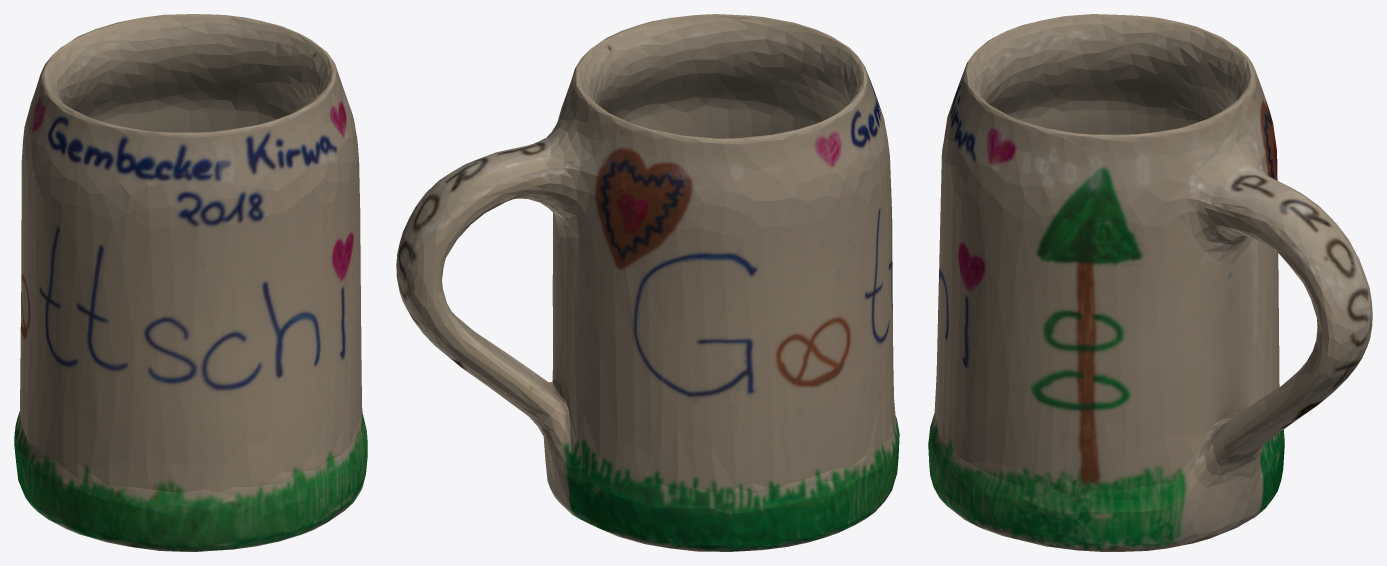
3 renders of one model, left to right at view 1: azimuth 30°, elevation 25°; view 2: azimuth 150°, elevation 25°; view 3: azimuth 270°, elevation 25°, orthographic.
Parts seen in each view (by area): view 1: Krug Baum_4k_2k; view 2: Krug Baum_4k_2k; view 3: Krug Baum_4k_2k.
Boxes of the visible parts, left/top/right/bottom form: Krug Baum_4k_2k: left=14, top=14, right=367, bottom=551; Krug Baum_4k_2k: left=396, top=14, right=899, bottom=551; Krug Baum_4k_2k: left=928, top=14, right=1372, bottom=551.
Bounding box in the file's own units: 0.1181 × 0.1268 × 0.1245.
1 material, 1 textured.
